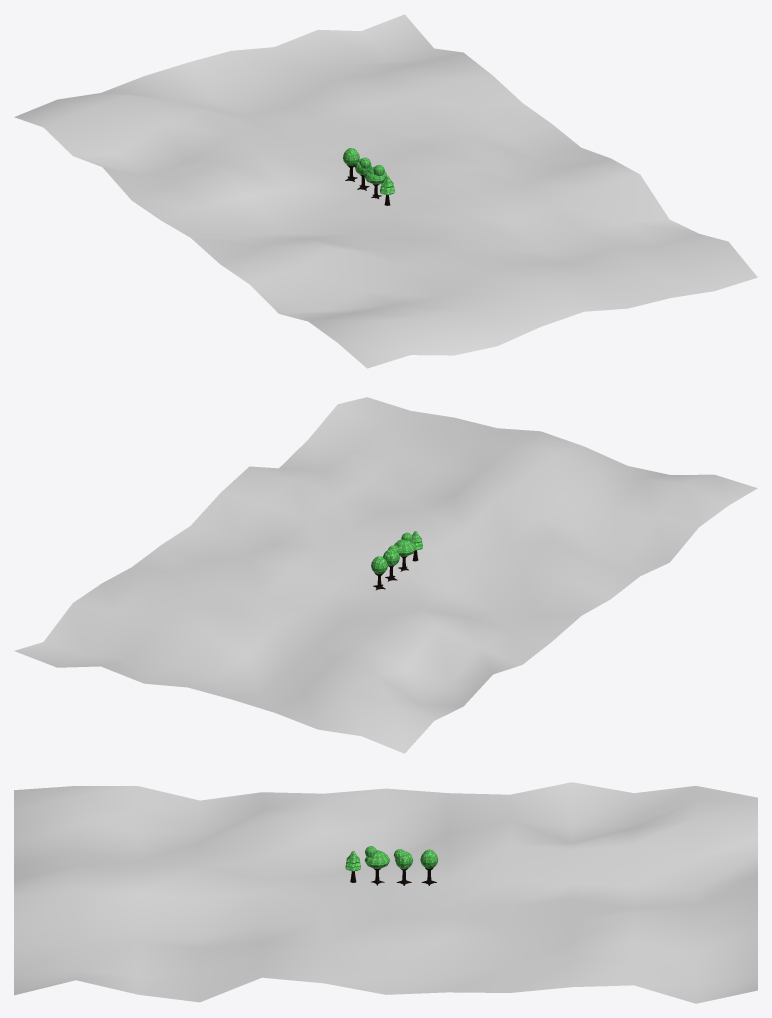
The model's file is Trees.FBX.
3 views of the same model, one above another, from view 1: azimuth 30°, elevation 25°; view 2: azimuth 150°, elevation 25°; view 3: azimuth 270°, elevation 25° (orthographic). The views are drawn at different scales.
Visible parts, largest first — view 1: Plane001; view 2: Plane001; view 3: Plane001, Sphere009.
Part boxes in pixels (bbox=[...]): Plane001: bbox=[14, 14, 757, 368]; Plane001: bbox=[14, 397, 757, 753]; Plane001: bbox=[14, 782, 757, 1003]; Sphere009: bbox=[364, 846, 390, 868].
Bounding box in the file's own units: 1262 × 163 × 1976.
2 materials, 1 textured.
